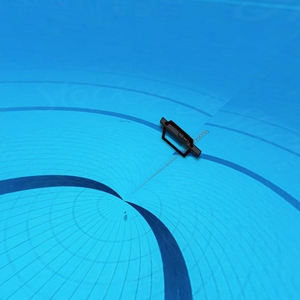submarine: (159, 115, 200, 160)
